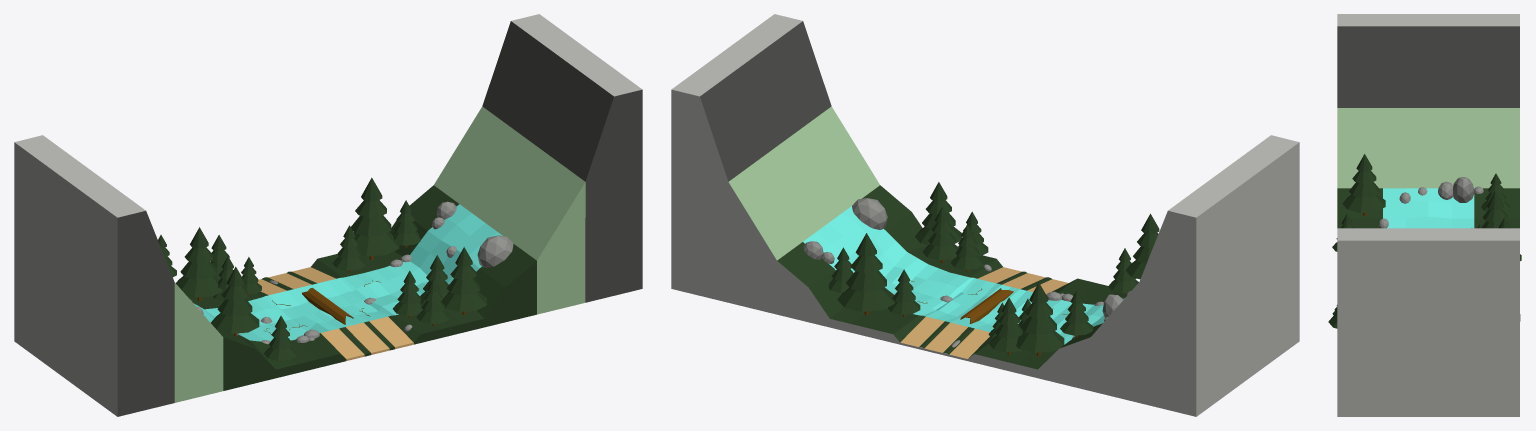
The model's file is River.fbx.
3 renders of one model, left to right at view 1: azimuth 30°, elevation 25°; view 2: azimuth 150°, elevation 25°; view 3: azimuth 270°, elevation 25°, orthographic. The views are drawn at different scales.
Visible parts, largest first — view 1: Land, Ctree, Stone, Log; view 2: Land, Ctree, Stone, Log; view 3: Land, Ctree, Stone.
Part boxes in pixels (x1,y1,x2,y2): Land: (14, 14, 642, 416); Ctree: (158, 177, 486, 361); Stone: (190, 201, 513, 344); Log: (302, 288, 353, 324); Land: (671, 14, 1299, 416); Ctree: (828, 182, 1159, 356); Stone: (803, 198, 1131, 347); Log: (960, 288, 1013, 323); Land: (1337, 14, 1519, 416); Ctree: (1328, 154, 1521, 328); Stone: (1378, 177, 1483, 228).
Size of the model in its own units: 5989 by 2173 by 2161.
